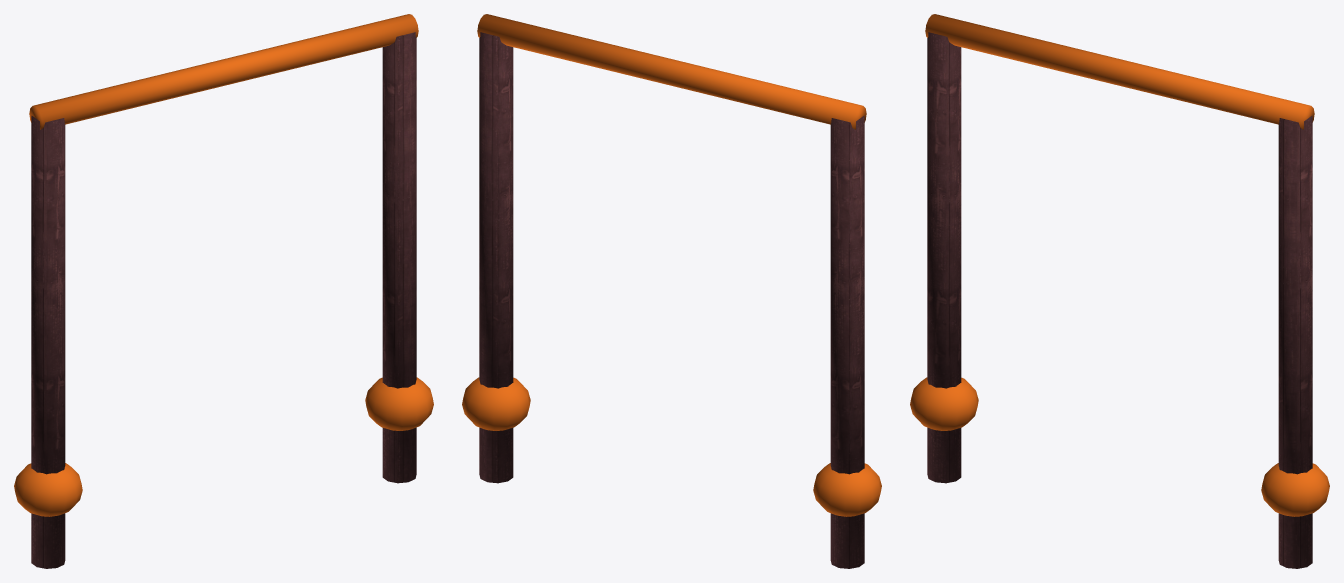
The model's file is gate.glb.
3 views of the same model, side by side, from view 1: azimuth 30°, elevation 25°; view 2: azimuth 150°, elevation 25°; view 3: azimuth 330°, elevation 25° (orthographic).
Parts seen in each view (by area): view 1: Gate; view 2: Gate; view 3: Gate.
Boxes of the visible parts, x1,y1,x2,y2 form: Gate: (14,14,433,568); Gate: (462,14,881,568); Gate: (910,14,1329,568).
Bounding box in the file's own units: 1.63 × 1.75 × 0.24.
Materials: 2 (1 with a texture image).
